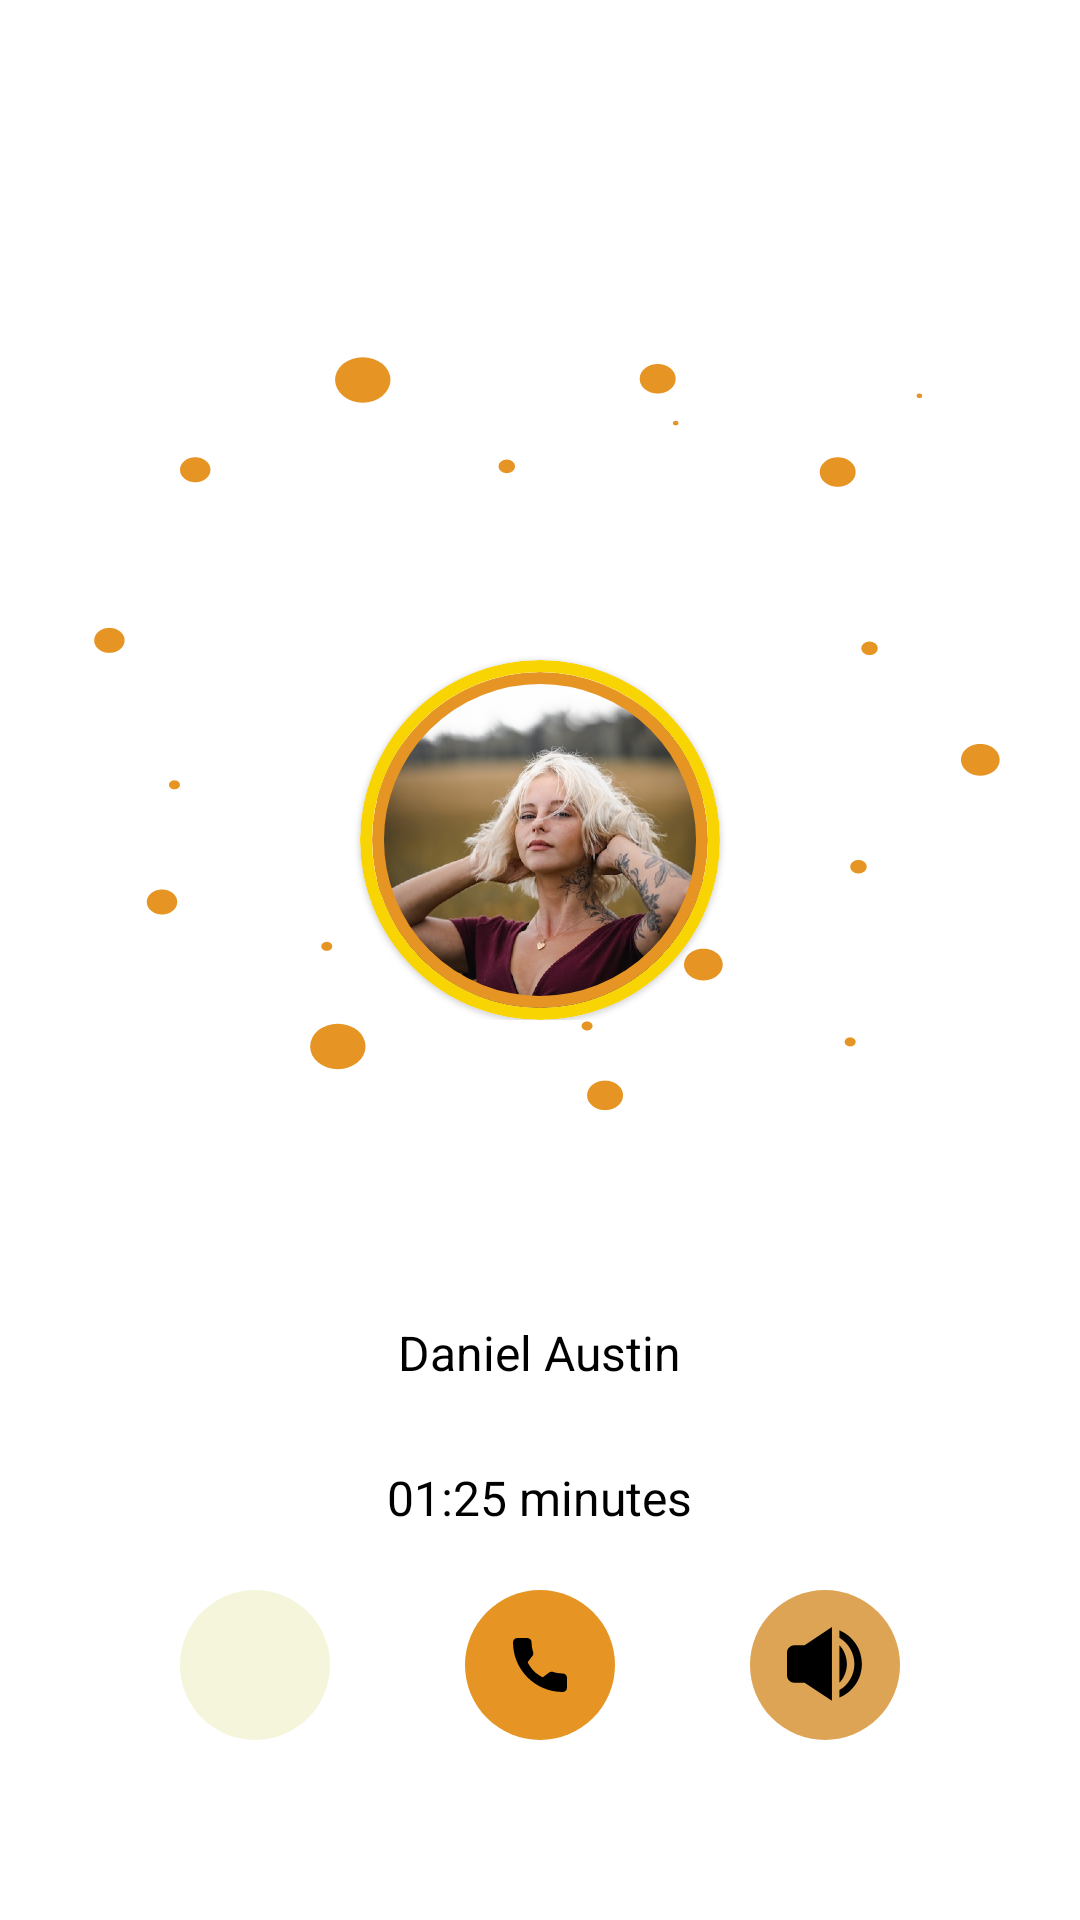

Where to tap for icons on this 1080x1920 app screen, as (x,y):
call: (540,1665)
speaker: (824,1664)
